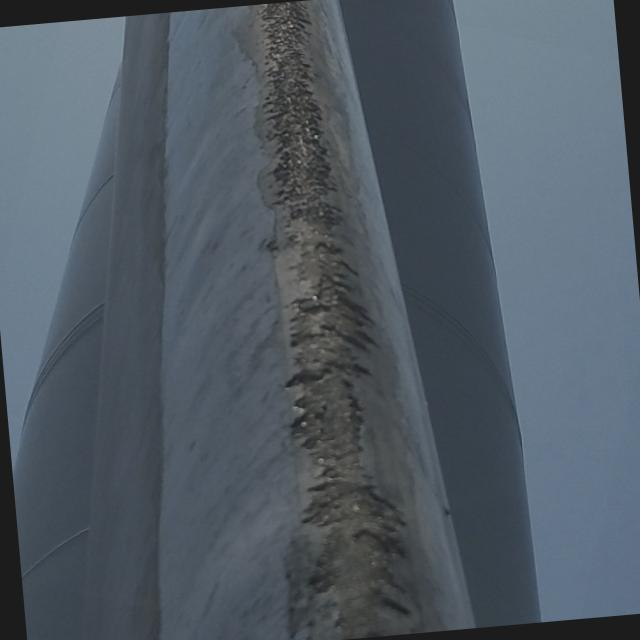surface_peeling: (236, 0, 415, 635)
